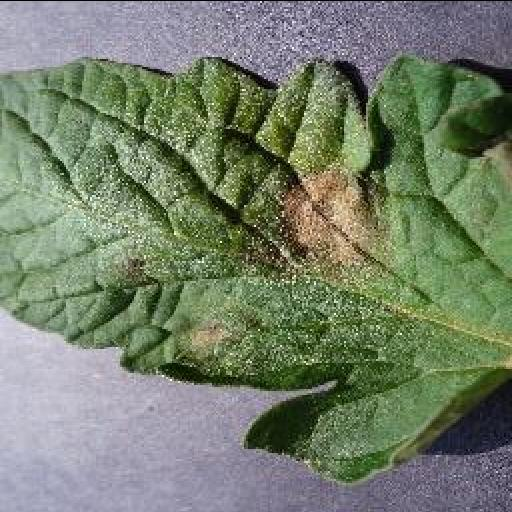disease_tomato: (0, 55, 512, 481)
